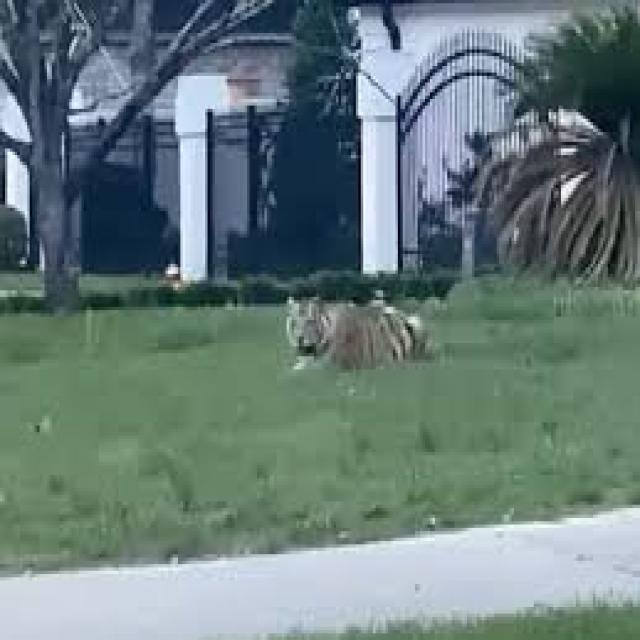Tiger: (282, 290, 435, 370)
